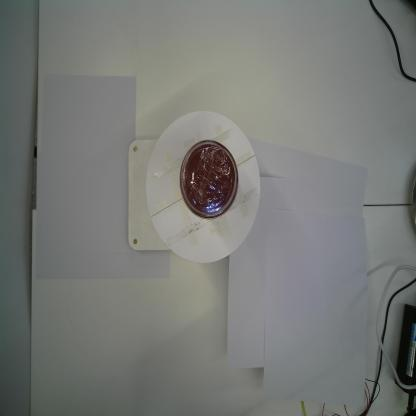Instant Drink: (179, 139, 240, 221)
